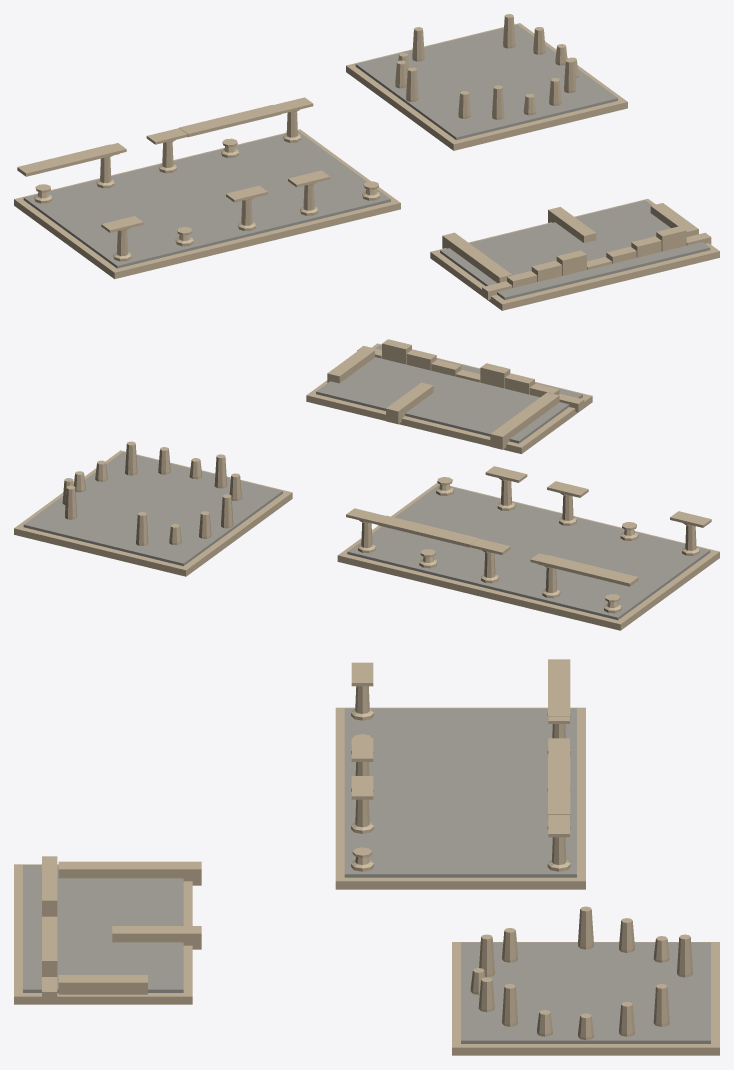
The model's file is top-prebuilt_far.fbx.
3 renders of one model, top to bottom at view 1: azimuth 30°, elevation 25°; view 2: azimuth 150°, elevation 25°; view 3: azimuth 270°, elevation 25°, orthographic. The views are drawn at different scales.
Parts seen in each view (by area): view 1: landmark-ancient_ruins/0/top-prebuilt_far; view 2: landmark-ancient_ruins/0/top-prebuilt_far; view 3: landmark-ancient_ruins/0/top-prebuilt_far.
Boxes of the visible parts, bbox=[...] form: landmark-ancient_ruins/0/top-prebuilt_far: bbox=[14, 14, 719, 310]; landmark-ancient_ruins/0/top-prebuilt_far: bbox=[14, 339, 719, 630]; landmark-ancient_ruins/0/top-prebuilt_far: bbox=[14, 659, 719, 1055].
Bounding box in the file's own units: 90.5 × 6.75 × 79.
